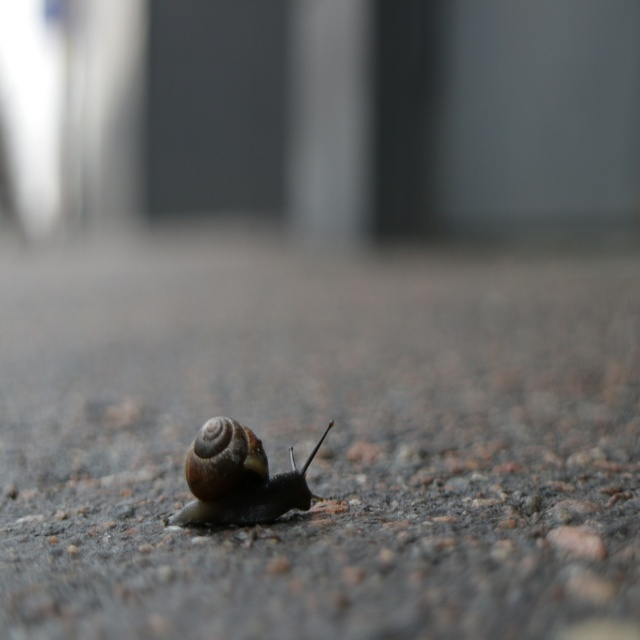Snail: (163, 413, 334, 531)
